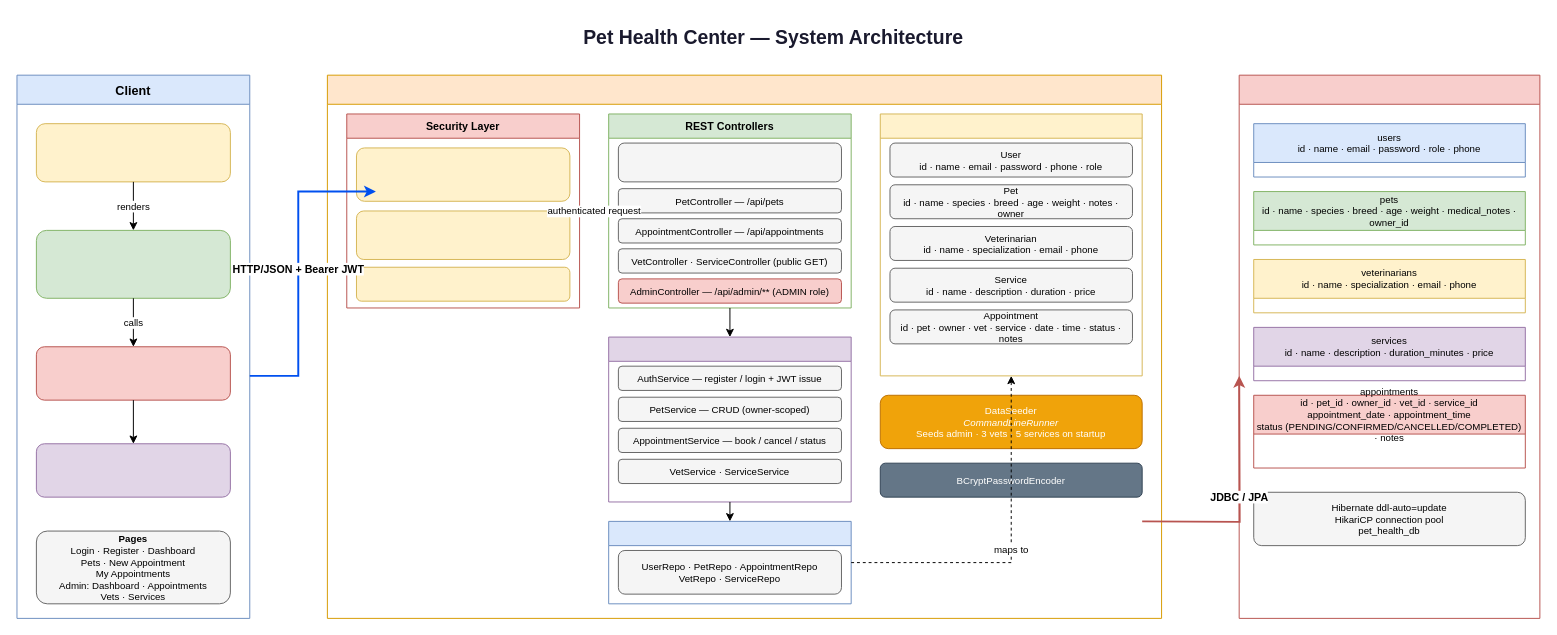
Some shapes in this 1557 by 635 pixel diagram are drawn without their labels. The box of each missing label's shape, as (x1, y1, x2, y2) in pixels:
AuthContext JWT + Role in localStorage: (35, 443, 230, 497)
AuthController POST /api/auth/register POST /api/auth/login: (617, 142, 841, 182)
Axios HTTP Client JWT Bearer Token Interceptor: (35, 346, 230, 400)
Backend — Spring Boot 3.2 · Java 21 · Port 8080: (326, 74, 1162, 618)
Database — MySQL 8: (1238, 74, 1540, 618)
JPA Entity Models: (879, 113, 1142, 376)
JwtAuthFilter OncePerRequestFilter Reads Bearer token → sets SecurityContext: (356, 147, 570, 201)
JwtUtil JJWT 0.12.5 Generate · Validate · Extract Claims: (356, 210, 570, 259)
React 18 + Vite Tailwind CSS · React Router v6 localhost:5173: (35, 229, 230, 298)
Repository Layer (Spring Data JPA): (608, 520, 851, 604)
SecurityConfig CSRF off · CORS · Stateless Session Role guards: OWNER / ADMIN: (356, 266, 570, 301)
Service Layer: (608, 336, 851, 502)
Web Browser Chrome / Firefox / Safari: (35, 123, 230, 182)
